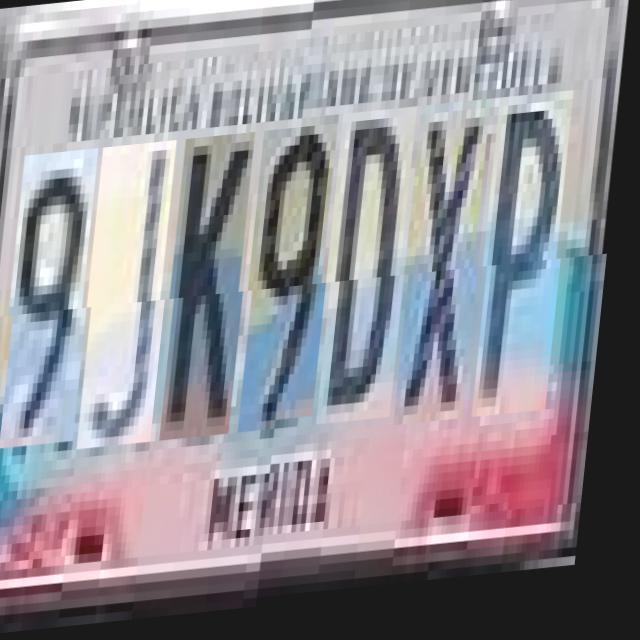9: (248, 130, 346, 438), (10, 150, 106, 449)
D: (325, 125, 424, 442)
J: (86, 144, 185, 452)
K: (169, 137, 263, 446)
P: (481, 111, 581, 438)
X: (403, 118, 498, 444)
